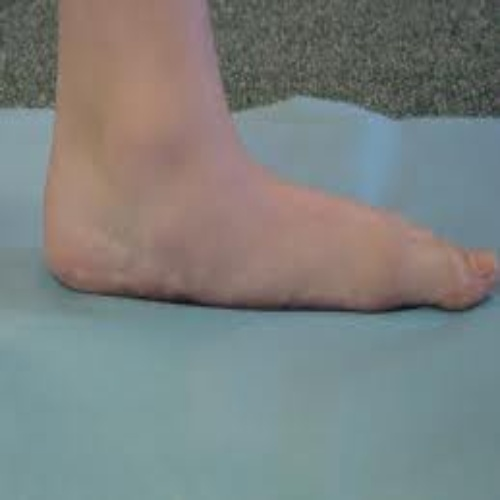Top_Foot: (40, 150, 498, 312)
